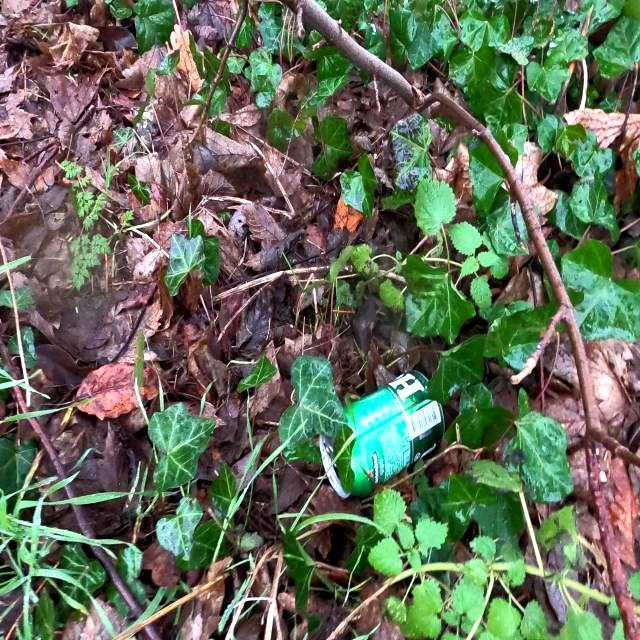Metal: (318, 364, 447, 501)
